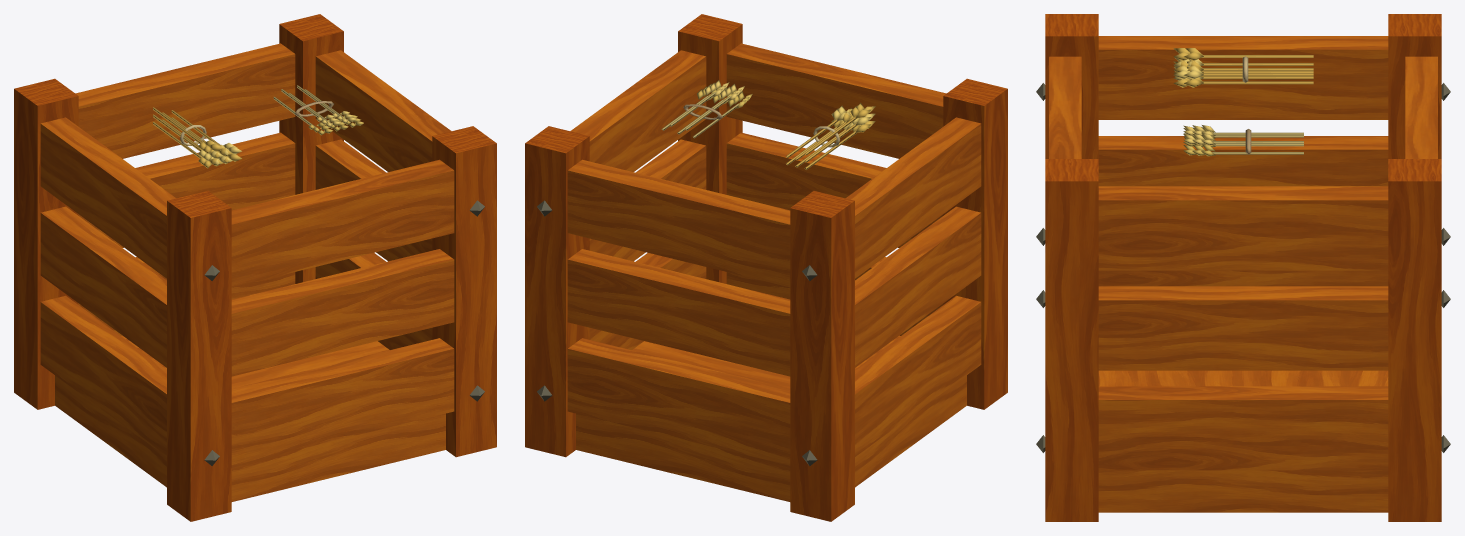
The model's file is farm-collection-box-10.gltf.
The picture shows the model from 3 angles, left to right: view 1: azimuth 30°, elevation 25°; view 2: azimuth 150°, elevation 25°; view 3: azimuth 270°, elevation 25°; orthographic projection. The views are drawn at different scales.
Parts seen in each view (by area): view 1: farm-collection-box-10; view 2: farm-collection-box-10; view 3: farm-collection-box-10.
Part boxes in pixels (x1,y1,x2,y2): farm-collection-box-10: (14, 14, 496, 521); farm-collection-box-10: (525, 14, 1007, 521); farm-collection-box-10: (1036, 14, 1450, 521).
Size of the model in its own units: 0.8002 by 0.7796 by 0.8382.
Materials: 2 (1 with a texture image).
